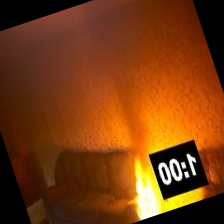fire: (126, 162, 167, 220)
